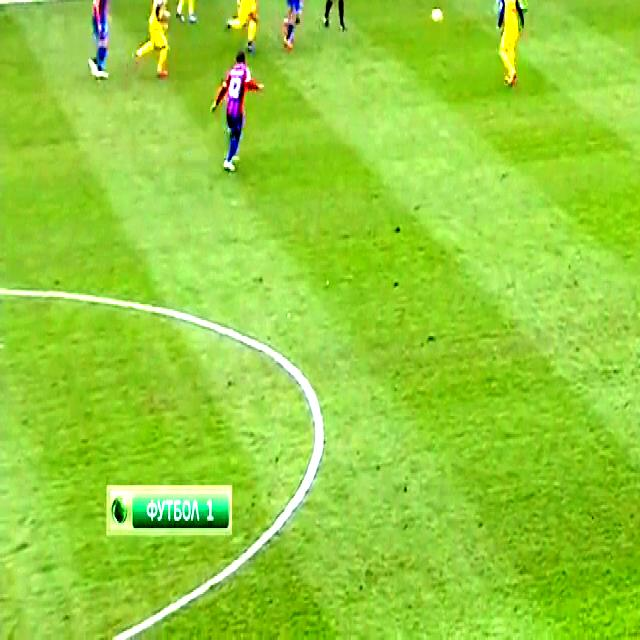ball: (428, 2, 447, 36)
referee: (315, 0, 359, 37)
soccer-player: (208, 47, 276, 178), (484, 0, 533, 92), (76, 0, 125, 89), (131, 0, 179, 87), (273, 0, 314, 52), (223, 0, 265, 46), (181, 0, 204, 20)
